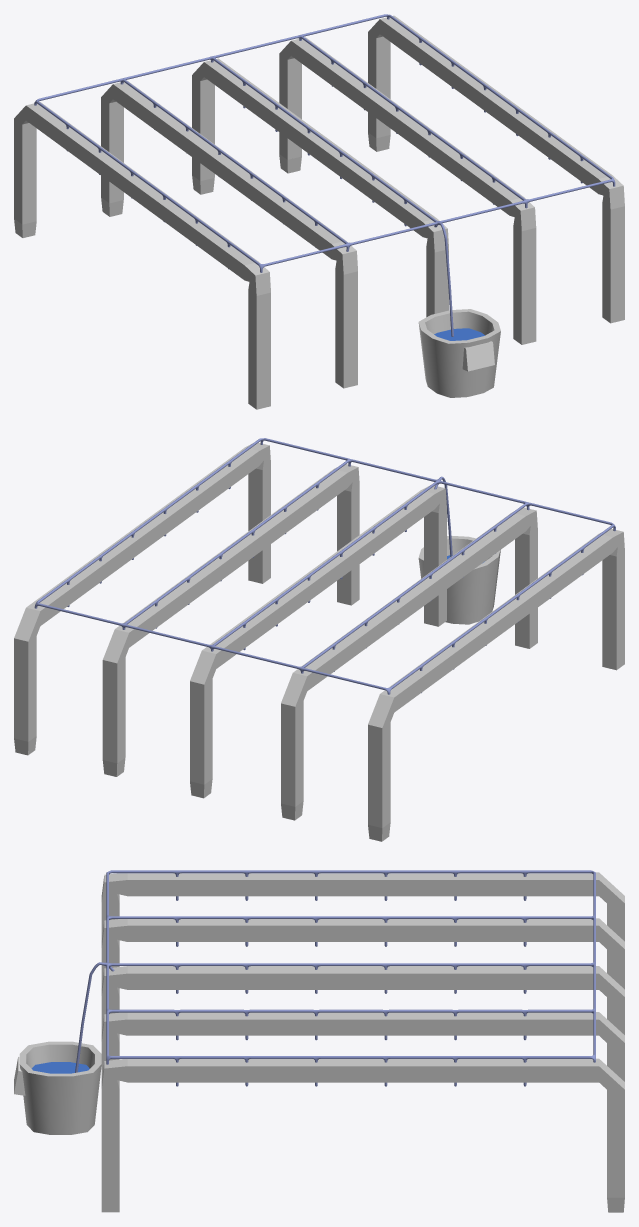
File: WaterSystem.fbx
The picture shows the model from 3 angles, top to bottom: view 1: azimuth 30°, elevation 25°; view 2: azimuth 150°, elevation 25°; view 3: azimuth 270°, elevation 25°; orthographic projection. The views are drawn at different scales.
Parts seen in each view (by area): view 1: WaterSystemPipes, Pipes, Fountain, WaterPlants; view 2: WaterSystemPipes, Pipes, Fountain; view 3: WaterSystemPipes, Pipes, Fountain.
Boxes of the visible parts, bbox=[...] form: WaterSystemPipes: bbox=[14, 15, 624, 409]; Pipes: bbox=[34, 14, 615, 336]; Fountain: bbox=[418, 309, 500, 397]; WaterPlants: bbox=[462, 341, 494, 371]; WaterSystemPipes: bbox=[14, 442, 624, 841]; Pipes: bbox=[34, 438, 615, 694]; Fountain: bbox=[418, 535, 500, 624]; WaterSystemPipes: bbox=[101, 872, 624, 1212]; Pipes: bbox=[75, 870, 595, 1086]; Fountain: bbox=[19, 1041, 101, 1134].
Size of the model in its own units: 1275 by 485 by 1699.
